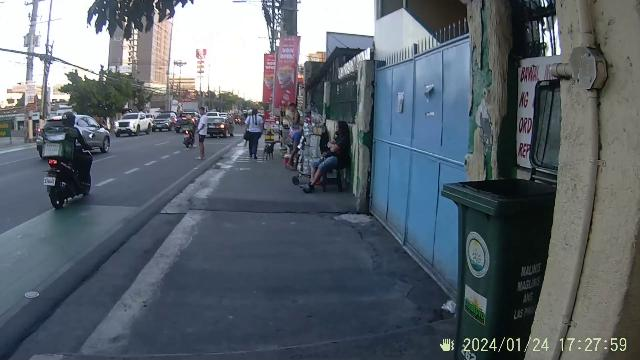garbage: (432, 170, 570, 322)
street_vendor_cart: (291, 108, 341, 190)
